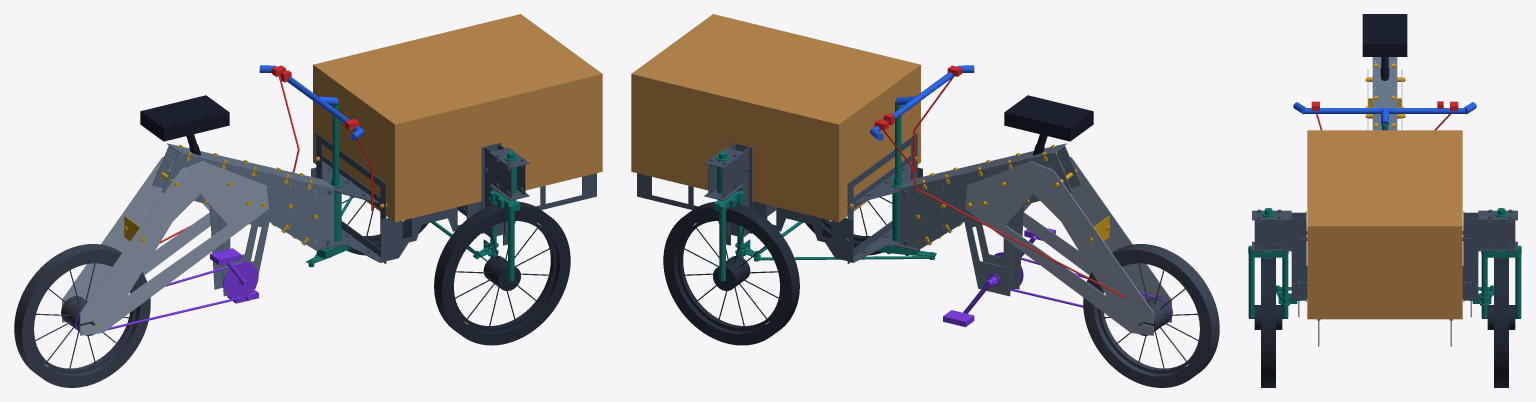
3 renders of one model, left to right at view 1: azimuth 30°, elevation 25°; view 2: azimuth 150°, elevation 25°; view 3: azimuth 270°, elevation 25°, orthographic. The views are drawn at different scales.
Parts seen in each view (by area): view 1: Cargo box and lid, plywood, Rear stay plates (pair), Front wheels, drum brakes (2), Spine plates and covers, Front bed and knuckle post plates, Rear wheel, 3-speed drum hub, Steering column, knuckles and linkage, Seat tube, seatpost and saddle, Drivetrain, Brake levers, cables, parking latch, Handlebar and stem, Ribs, saddles, spacers and M8 bolts; view 2: Cargo box and lid, plywood, Rear stay plates (pair), Front wheels, drum brakes (2), Spine plates and covers, Front bed and knuckle post plates, Rear wheel, 3-speed drum hub, Steering column, knuckles and linkage, Seat tube, seatpost and saddle, Drivetrain, Brake levers, cables, parking latch, Handlebar and stem, Ribs, saddles, spacers and M8 bolts; view 3: Cargo box and lid, plywood, Front bed and knuckle post plates, Front wheels, drum brakes (2), Steering column, knuckles and linkage, Seat tube, seatpost and saddle, Spine plates and covers, Handlebar and stem, Ribs, saddles, spacers and M8 bolts, Brake levers, cables, parking latch.
Boxes of the visible parts, x1=… form: Cargo box and lid, plywood: x1=313, y1=14, x2=602, y2=222; Rear stay plates (pair): x1=62, y1=156, x2=268, y2=335; Front wheels, drum brakes (2): x1=341, y1=197, x2=570, y2=345; Spine plates and covers: x1=152, y1=143, x2=336, y2=296; Front bed and knuckle post plates: x1=311, y1=133, x2=596, y2=263; Rear wheel, 3-speed drum hub: x1=14, y1=244, x2=150, y2=387; Steering column, knuckles and linkage: x1=306, y1=100, x2=520, y2=281; Seat tube, seatpost and saddle: x1=140, y1=95, x2=229, y2=155; Drivetrain: x1=75, y1=248, x2=258, y2=332; Brake levers, cables, parking latch: x1=159, y1=65, x2=373, y2=243; Handlebar and stem: x1=259, y1=65, x2=363, y2=140; Ribs, saddles, spacers and M8 bolts: x1=123, y1=144, x2=387, y2=248; Cargo box and lid, plywood: x1=631, y1=14, x2=920, y2=222; Rear stay plates (pair): x1=965, y1=156, x2=1171, y2=335; Front wheels, drum brakes (2): x1=663, y1=197, x2=892, y2=345; Spine plates and covers: x1=897, y1=143, x2=1081, y2=296; Front bed and knuckle post plates: x1=637, y1=133, x2=922, y2=263; Rear wheel, 3-speed drum hub: x1=1083, y1=244, x2=1219, y2=387; Steering column, knuckles and linkage: x1=713, y1=100, x2=936, y2=281; Seat tube, seatpost and saddle: x1=1004, y1=95, x2=1093, y2=155; Drivetrain: x1=943, y1=228, x2=1171, y2=327; Brake levers, cables, parking latch: x1=874, y1=65, x2=1125, y2=297; Handlebar and stem: x1=870, y1=65, x2=974, y2=140; Ribs, saddles, spacers and M8 bolts: x1=846, y1=144, x2=1110, y2=248; Cargo box and lid, plywood: x1=1307, y1=130, x2=1462, y2=320; Front bed and knuckle post plates: x1=1252, y1=209, x2=1517, y2=346; Front wheels, drum brakes (2): x1=1249, y1=257, x2=1520, y2=387; Steering column, knuckles and linkage: x1=1248, y1=124, x2=1521, y2=318; Seat tube, seatpost and saddle: x1=1362, y1=14, x2=1407, y2=80; Spine plates and covers: x1=1372, y1=57, x2=1397, y2=130; Handlebar and stem: x1=1293, y1=102, x2=1476, y2=125; Ribs, saddles, spacers and M8 bolts: x1=1365, y1=63, x2=1405, y2=127; Brake levers, cables, parking latch: x1=1311, y1=101, x2=1458, y2=130.
Bounding box in the file's own units: 2.15 × 0.9299 × 0.986.
